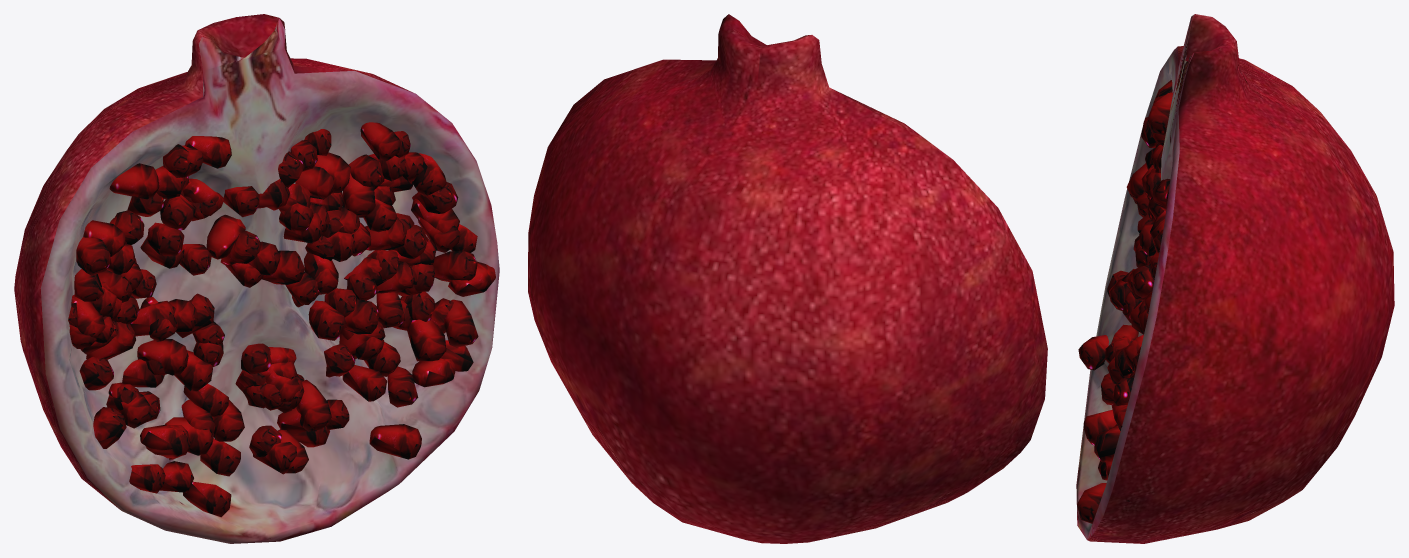
Rendered from pomegranate-half.glb.
The picture shows the model from 3 angles, left to right: view 1: azimuth 30°, elevation 25°; view 2: azimuth 150°, elevation 25°; view 3: azimuth 270°, elevation 25°; orthographic projection. The views are drawn at different scales.
Visible parts, largest first — view 1: pom half flat; view 2: pom half flat; view 3: pom half flat.
Part boxes in pixels (<box>): pom half flat: <box>14,14,499,543</box>; pom half flat: <box>528,14,1047,543</box>; pom half flat: <box>1076,14,1394,543</box>.
Size of the model in its own units: 210 by 210 by 125.
3 materials, 3 textured.
